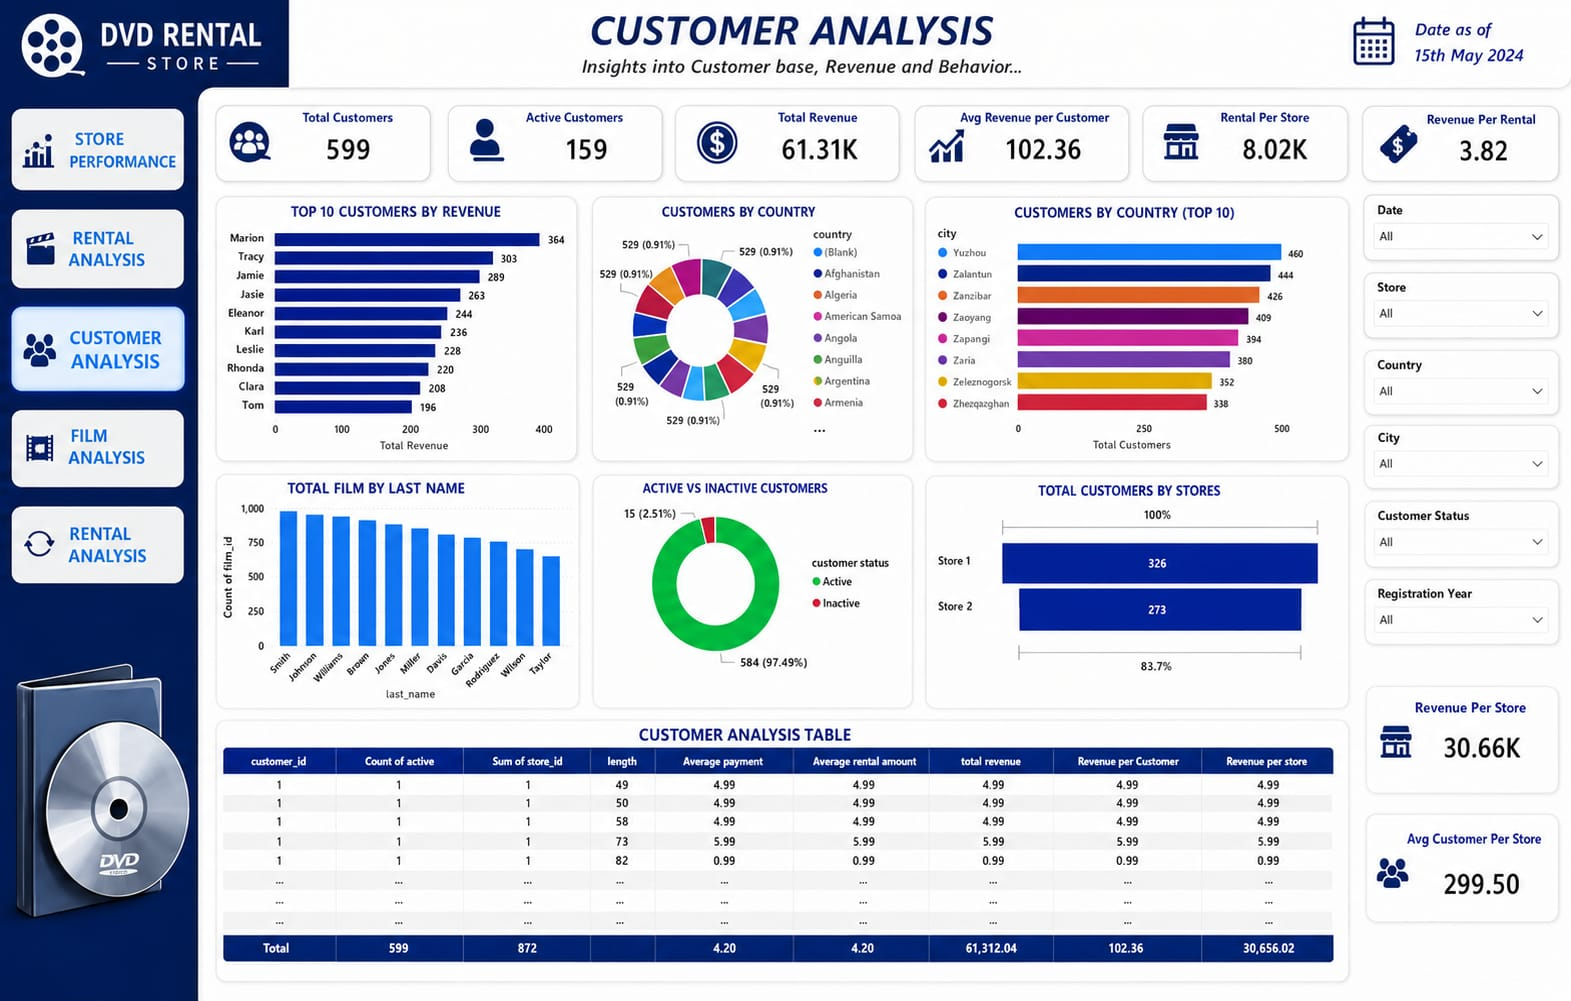

The page's visual inventory and layout, read from the dashboard file:
{"tool":"powerbi","page":{"name":"Page 3","canvas":[1800,1200],"ordinal":2},"visuals":[{"type":"textbox","box":[0,0,1800,100],"z":0},{"type":"slicer","fields":{"Values":["public inventory.last_update"]},"box":[1540,262.5,250,80],"z":0,"group":"g1"},{"type":"actionButton","box":[0,266.2,240,136.8],"z":0,"group":"g2"},{"type":"cardVisual","title":"Total Customers ","fields":{"Data":["public customer.Total customers"]},"box":[262.5,130,240,110],"z":1000},{"type":"slicer","fields":{"Values":["public customer.store_id"]},"box":[1540,372.5,250,80],"z":1000,"group":"g1"},{"type":"actionButton","box":[0,402.9,240,136.8],"z":1000,"group":"g2"},{"type":"actionButton","title":"STORE PERFORMANCE","box":[0,130,240,136.8],"z":2000,"group":"g2"},{"type":"cardVisual","title":"Active Customers","fields":{"Data":["public customer.Active Customers"]},"box":[520,130,237.5,110],"z":2000},{"type":"slicer","fields":{"Values":["public country.country"]},"box":[1540,482.5,250,80],"z":2000,"group":"g1"},{"type":"cardVisual","title":"Total Revenue","fields":{"Data":["public payment.total revenue"]},"box":[770,130,250,110],"z":3000},{"type":"actionButton","box":[0,549,240,136.8],"z":3000,"group":"g2"},{"type":"slicer","fields":{"Values":["public city.city"]},"box":[1540,582.5,250,80],"z":3000,"group":"g1"},{"type":"cardVisual","title":"Avg Revenue per Customer","fields":{"Data":["public customer.Revenue per Customer"]},"box":[1037.5,130,220,110],"z":4000},{"type":"slicer","fields":{"Values":["public customer.customer status"]},"box":[1540,692.5,250,80],"z":4000,"group":"g1"},{"type":"actionButton","box":[0,698.2,240,136.8],"z":4000,"group":"g2"},{"type":"cardVisual","title":"Rental Per Store","fields":{"Data":["public customer.Rental per store"]},"box":[1275,130,247.5,110],"z":5000},{"type":"slicer","fields":{"Values":["public customer.create_date.Variation.Date Hierarchy.Year"]},"box":[1540,802.5,250,80],"z":5000,"group":"g1"},{"type":"cardVisual","title":"Revenue Per Rental","fields":{"Data":["public customer.Revenue per rental"]},"box":[1537.5,130,252.5,110],"z":6000},{"type":"barChart","title":"Top 10 Customers By Revenue","fields":{"Category":["public customer.first_name"],"Y":["public payment.total revenue"]},"box":[262.5,267.5,400,300],"z":7000},{"type":"donutChart","title":"Customers By Country","fields":{"Y":["public customer.Total customers"],"Category":["public country.country"]},"box":[682.5,262.5,400,300],"z":8000},{"type":"barChart","title":"Customers By Country (Top 10)","fields":{"Y":["public customer.Total customers"],"Category":["public city.city"],"Series":["public city.city"]},"box":[1122.5,265,400,300],"z":9000},{"type":"donutChart","title":"Active vs Inactive Customers","fields":{"Category":["public customer.customer status"],"Y":["public customer.Total customers"]},"box":[700,582.5,400,300],"z":10000},{"type":"group","id":"g1","title":"Group 1","box":[1540,262.5,250,620],"z":11000},{"type":"image","box":[462.5,0,150,90],"z":12000},{"type":"image","box":[1447.5,0,150,100],"z":13000},{"type":"group","id":"g2","title":"Group 2","box":[0,130,240,705],"z":14000},{"type":"image","box":[0,0,320,100],"z":15000},{"type":"image","box":[0,842.5,240,357.5],"z":16000},{"type":"funnel","title":"Total customers by stores","fields":{"Y":["public customer.Total customers"],"Category":["public customer.store_id"]},"box":[1122.5,582.5,380,300],"z":17000},{"type":"ribbonChart","title":"Total Film by Last_Name","fields":{"Category":["public customer.last_name"],"Y":["CountNonNull(public film.film_id)"]},"box":[262.5,582.5,420,300],"z":18000},{"type":"tableEx","title":"Customer Analysis Table","fields":{"Values":["public customer.customer_id","CountNonNull(public customer.active)","Sum(public customer.store_id)","public film.length","public payment.Average payment","public payment.Average rental amount","public payment.total revenue","public customer.Revenue per Customer","public customer.Revenue per store"]},"box":[262.5,900,1260,300],"z":19000},{"type":"cardVisual","title":"Revenue Per Store","fields":{"Data":["public customer.Revenue per store"]},"box":[1537.5,907.5,252.5,115],"z":20000},{"type":"cardVisual","title":"Avg Customer Per Store","fields":{"Data":["public customer.Average customers per store"]},"box":[1537.5,1050,252.5,127.5],"z":21000}]}

Visuals, with their boxes on the page's 1800x1200 design canvas (x1, y1, x2, y2). These are canvas units, not pixel positions in the 1571x1001 screenshot, which may show the page scaled, cropped or inside an application window:
textbox: left=0, top=0, right=1800, bottom=100
slicer - public inventory.last_update: left=1540, top=262, right=1790, bottom=342
actionButton: left=0, top=266, right=240, bottom=403
"Total Customers " cardVisual: left=262, top=130, right=502, bottom=240
slicer - public customer.store_id: left=1540, top=372, right=1790, bottom=452
actionButton: left=0, top=403, right=240, bottom=540
"STORE PERFORMANCE" actionButton: left=0, top=130, right=240, bottom=267
"Active Customers" cardVisual: left=520, top=130, right=758, bottom=240
slicer - public country.country: left=1540, top=482, right=1790, bottom=562
"Total Revenue" cardVisual: left=770, top=130, right=1020, bottom=240
actionButton: left=0, top=549, right=240, bottom=686
slicer - public city.city: left=1540, top=582, right=1790, bottom=662
"Avg Revenue per Customer" cardVisual: left=1038, top=130, right=1258, bottom=240
slicer - public customer.customer status: left=1540, top=692, right=1790, bottom=772
actionButton: left=0, top=698, right=240, bottom=835
"Rental Per Store" cardVisual: left=1275, top=130, right=1522, bottom=240
slicer - public customer.create_date.Variation.Date Hierarchy.Year: left=1540, top=802, right=1790, bottom=882
"Revenue Per Rental" cardVisual: left=1538, top=130, right=1790, bottom=240
"Top 10 Customers By Revenue" barChart: left=262, top=268, right=662, bottom=568
"Customers By Country" donutChart: left=682, top=262, right=1082, bottom=562
"Customers By Country (Top 10)" barChart: left=1122, top=265, right=1522, bottom=565
"Active vs Inactive Customers" donutChart: left=700, top=582, right=1100, bottom=882
"Group 1" group: left=1540, top=262, right=1790, bottom=882
image: left=462, top=0, right=612, bottom=90
image: left=1448, top=0, right=1598, bottom=100
"Group 2" group: left=0, top=130, right=240, bottom=835
image: left=0, top=0, right=320, bottom=100
image: left=0, top=842, right=240, bottom=1200
"Total customers by stores" funnel: left=1122, top=582, right=1502, bottom=882
"Total Film by Last_Name" ribbonChart: left=262, top=582, right=682, bottom=882
"Customer Analysis Table" tableEx: left=262, top=900, right=1522, bottom=1200
"Revenue Per Store" cardVisual: left=1538, top=908, right=1790, bottom=1022
"Avg Customer Per Store" cardVisual: left=1538, top=1050, right=1790, bottom=1178
